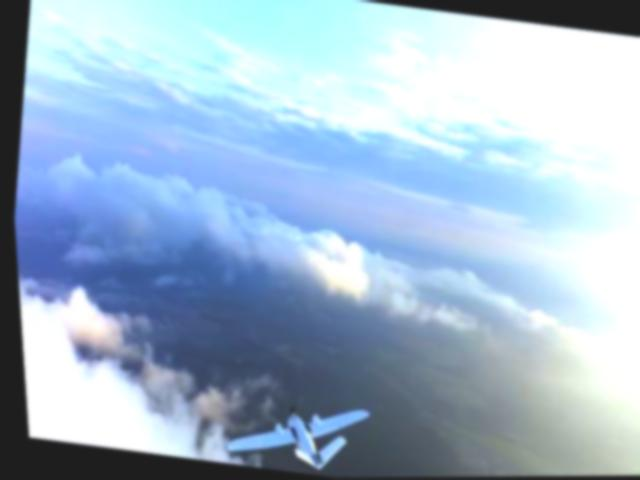uav: (215, 388, 372, 479)
